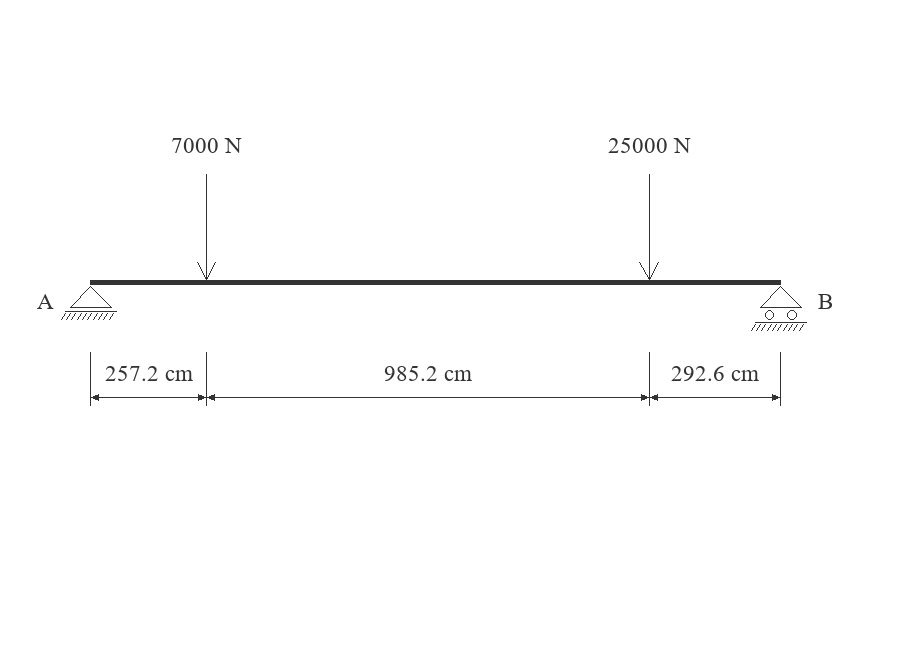pin_support: (61, 286, 117, 320)
point_load: (639, 174, 659, 280), (197, 174, 216, 280)
roller_support: (751, 286, 807, 331)
